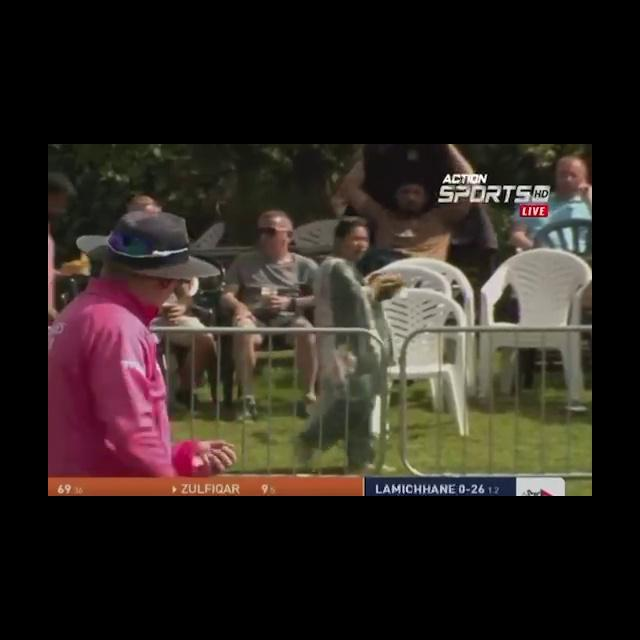umpire: (53, 168, 313, 481)
